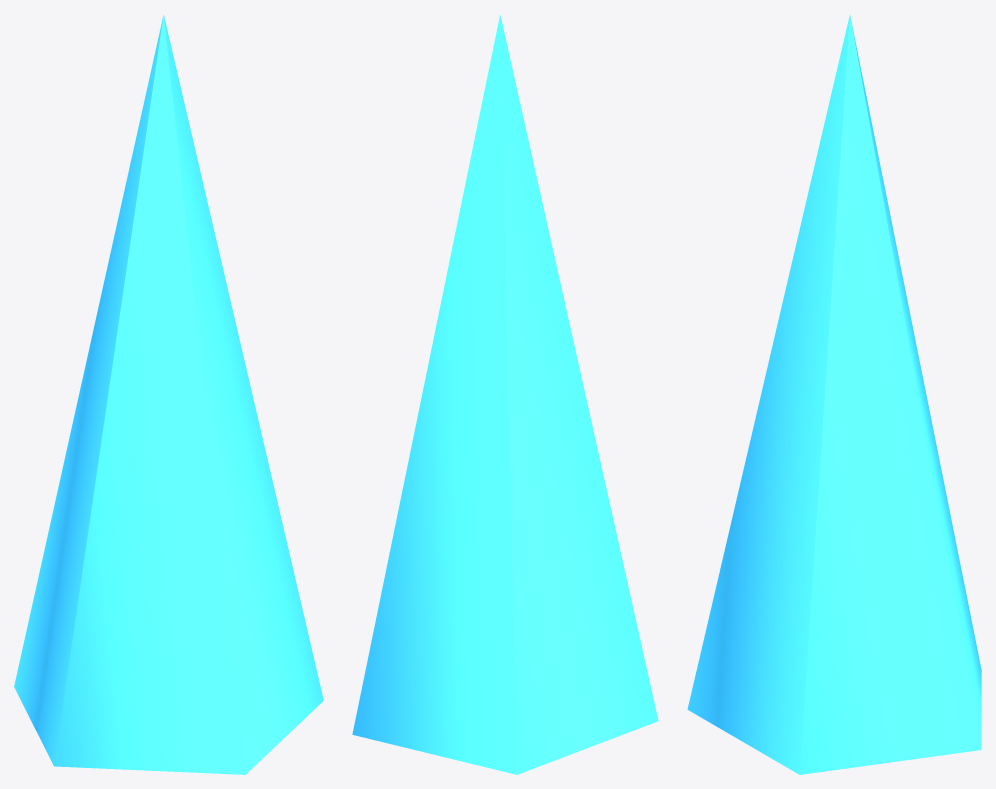
The model's file is ice_shard_small.glb.
The picture shows the model from 3 angles, left to right: view 1: azimuth 30°, elevation 25°; view 2: azimuth 150°, elevation 25°; view 3: azimuth 270°, elevation 25°; orthographic projection.
Bounding box in the file's own units: 0.3424 × 0.85 × 0.3256.
